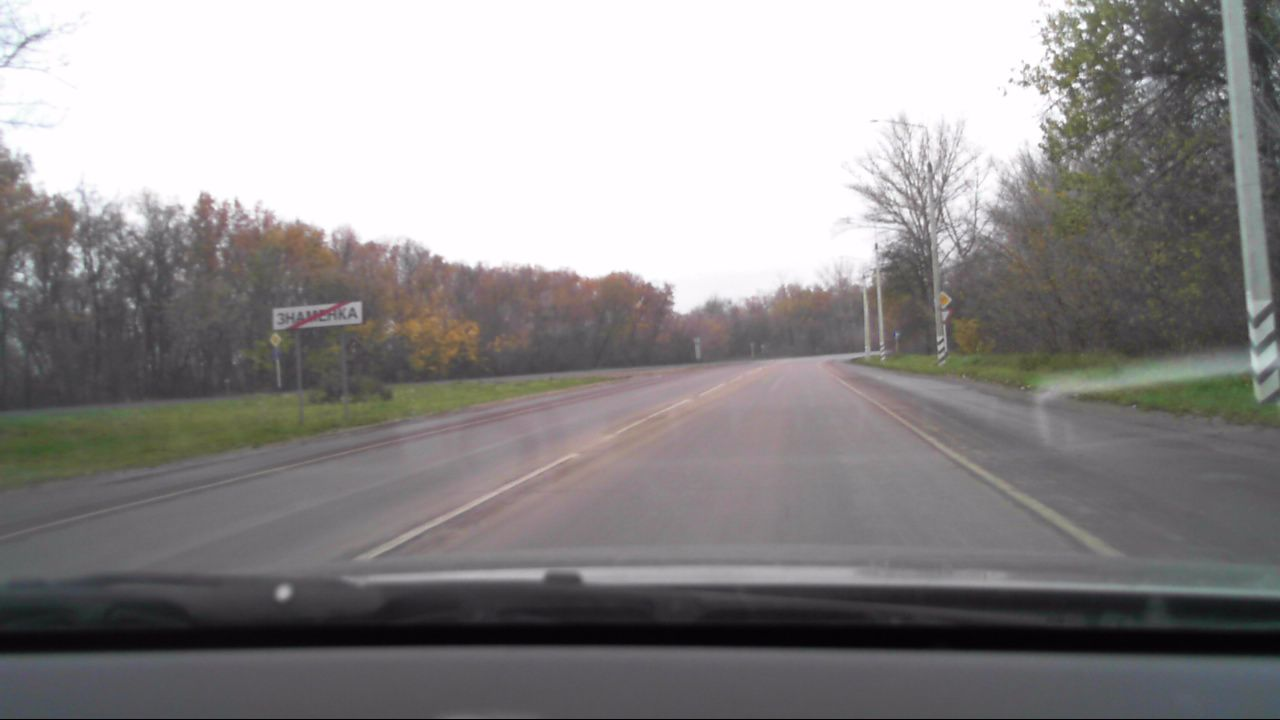main road: (932, 289, 953, 308)
